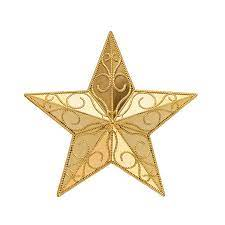star: (20, 28, 204, 206)
